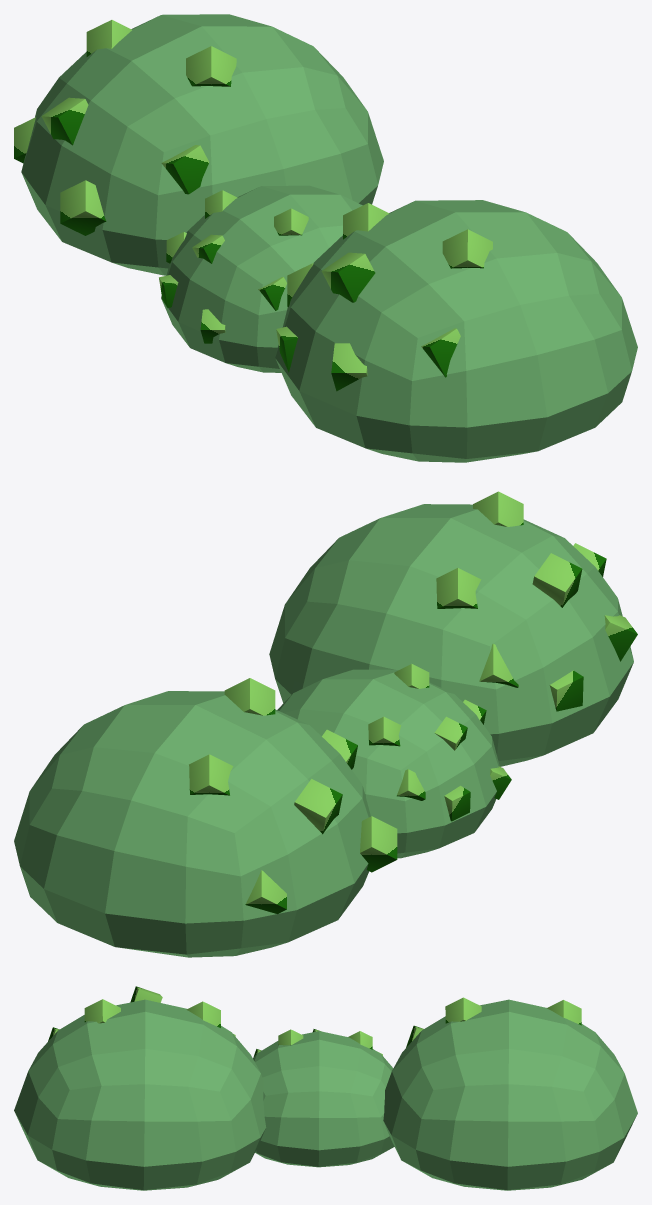
File: Summer_Obstacle2.fbx
3 renders of one model, top to bottom at view 1: azimuth 30°, elevation 25°; view 2: azimuth 150°, elevation 25°; view 3: azimuth 270°, elevation 25°, orthographic. The views are drawn at different scales.
Visible parts, largest first — view 1: Tree.178, Tree.194; view 2: Tree.178, Tree.194; view 3: Tree.178, Tree.194.
Boxes of the visible parts, x1,y1,x2,y2 form: Tree.178: (21,14,637,462); Tree.194: (14,20,492,391); Tree.178: (14,504,633,957); Tree.194: (189,491,637,913); Tree.178: (14,999,637,1190); Tree.194: (48,986,581,1057).
Bounding box in the file's own units: 637 × 396 × 1464.
